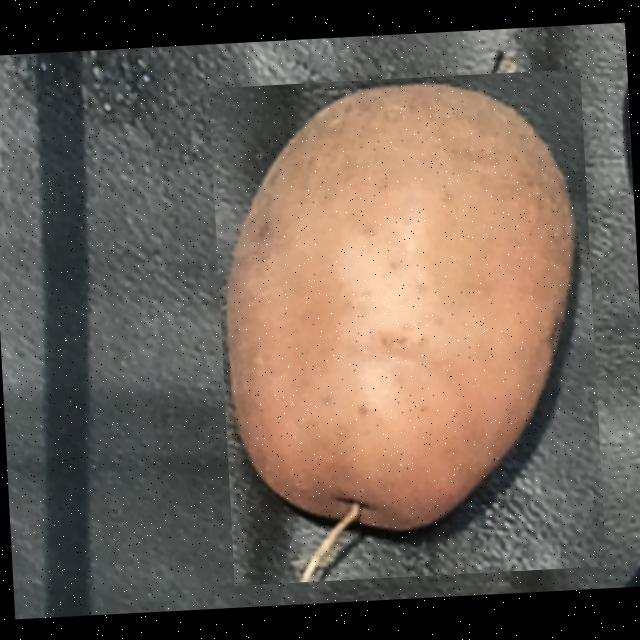Diseased-fungal potato: (208, 68, 606, 585)
